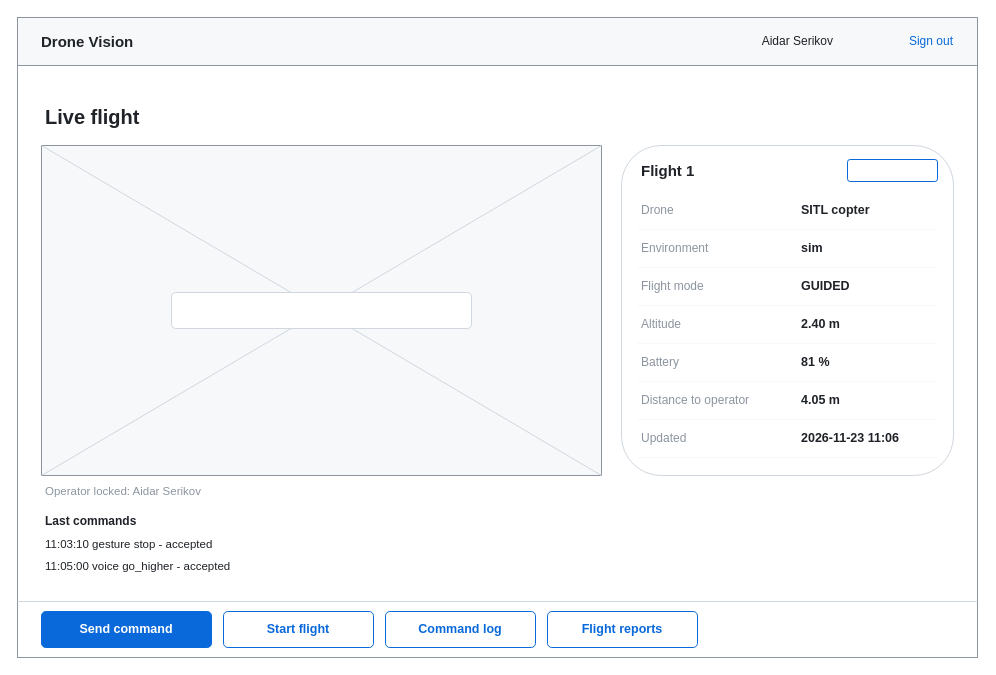
Some shapes in this 996 by 675 pixel diagram are drawn without their labels. Each missing label, with the box of its shape:
in flight: (846, 158, 938, 182)
Live view - SITL copter camera: (170, 292, 472, 328)
